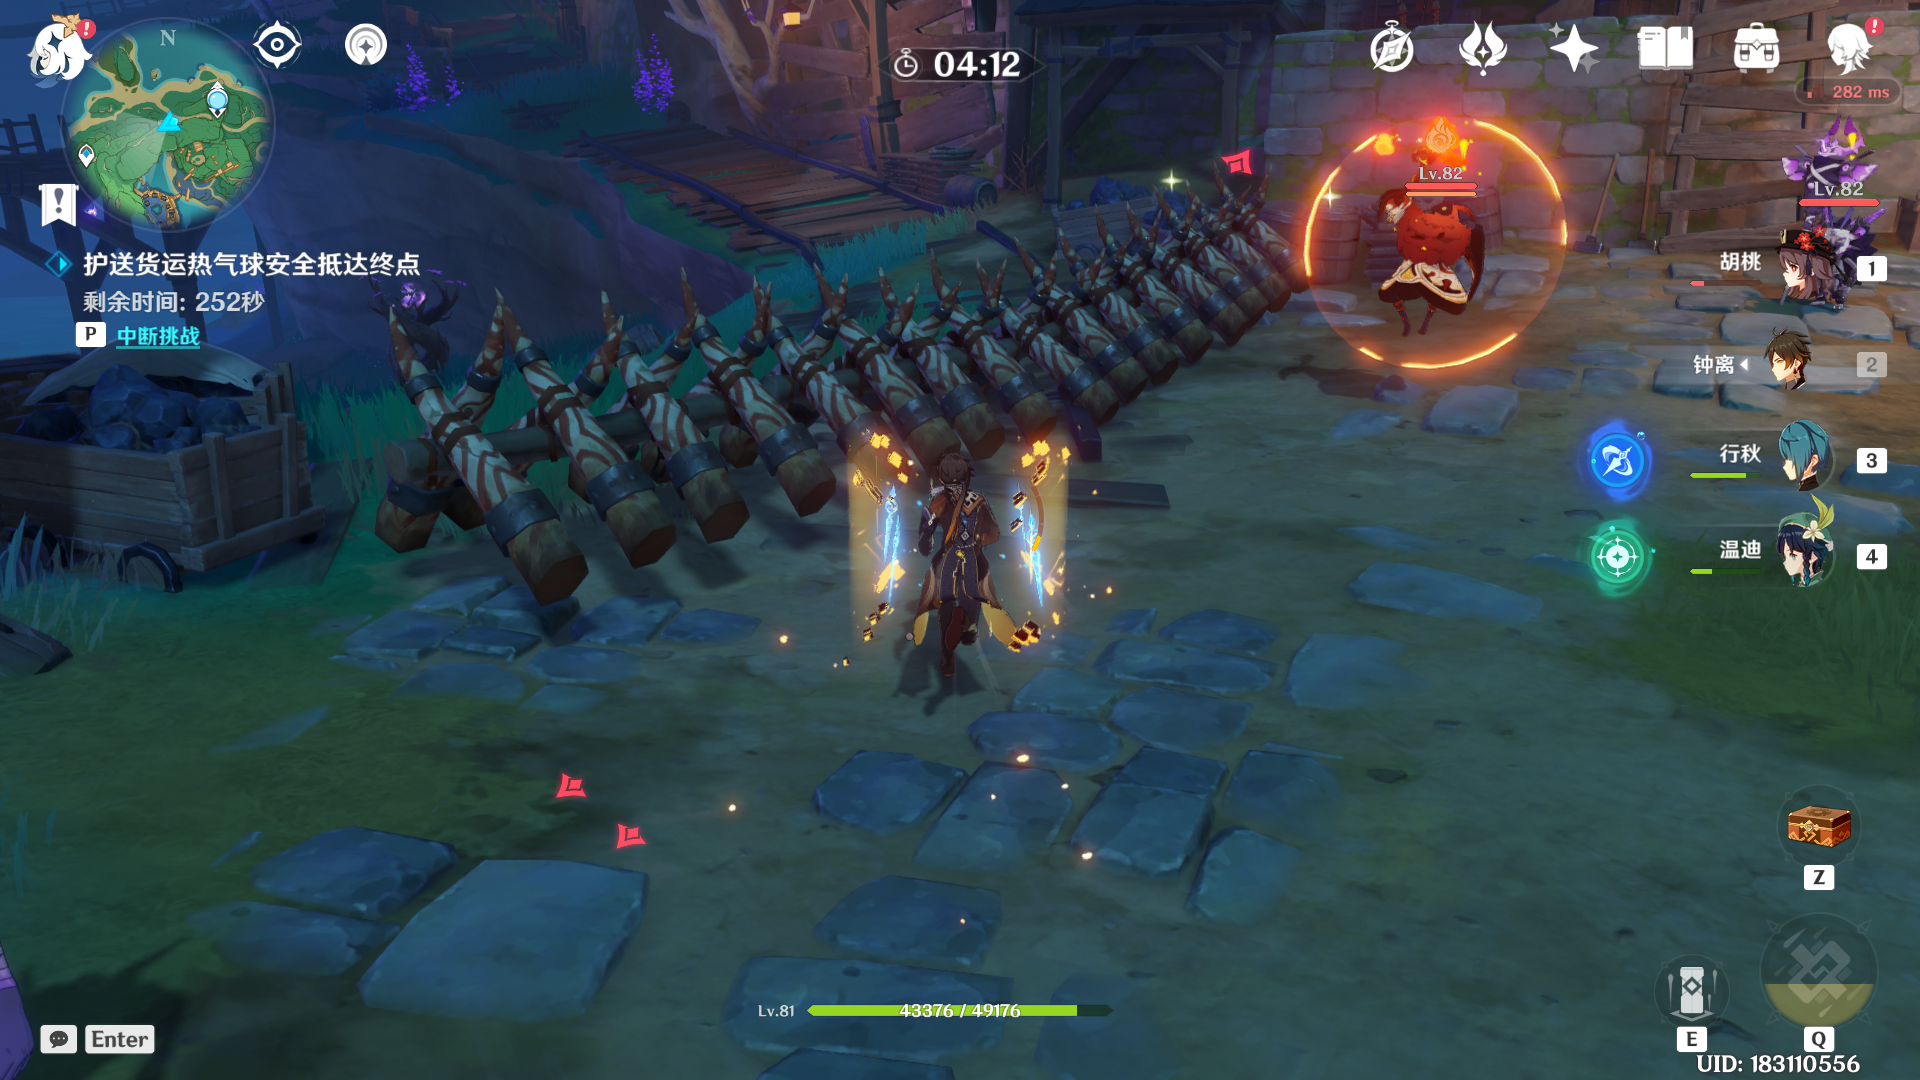caster: (1323, 135, 1495, 400)
character: (840, 425, 1036, 738)
hili: (1749, 105, 1908, 323)
